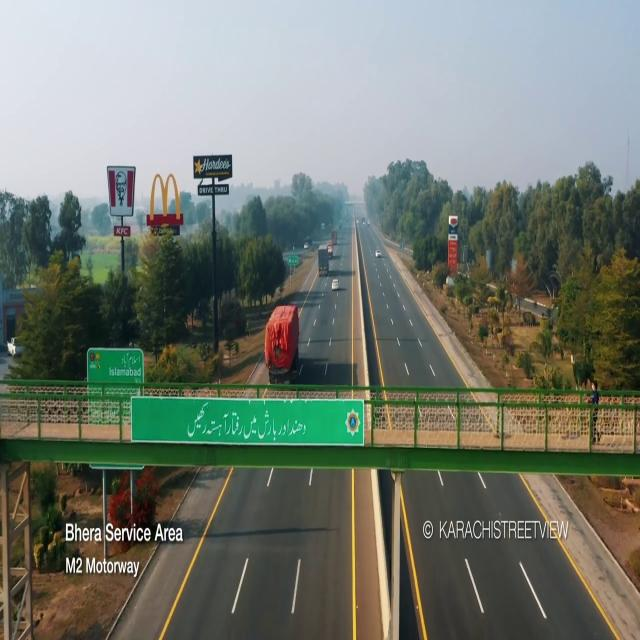car: (332, 276, 340, 292), (375, 248, 382, 260)
truck: (262, 297, 302, 387), (317, 242, 330, 280)
